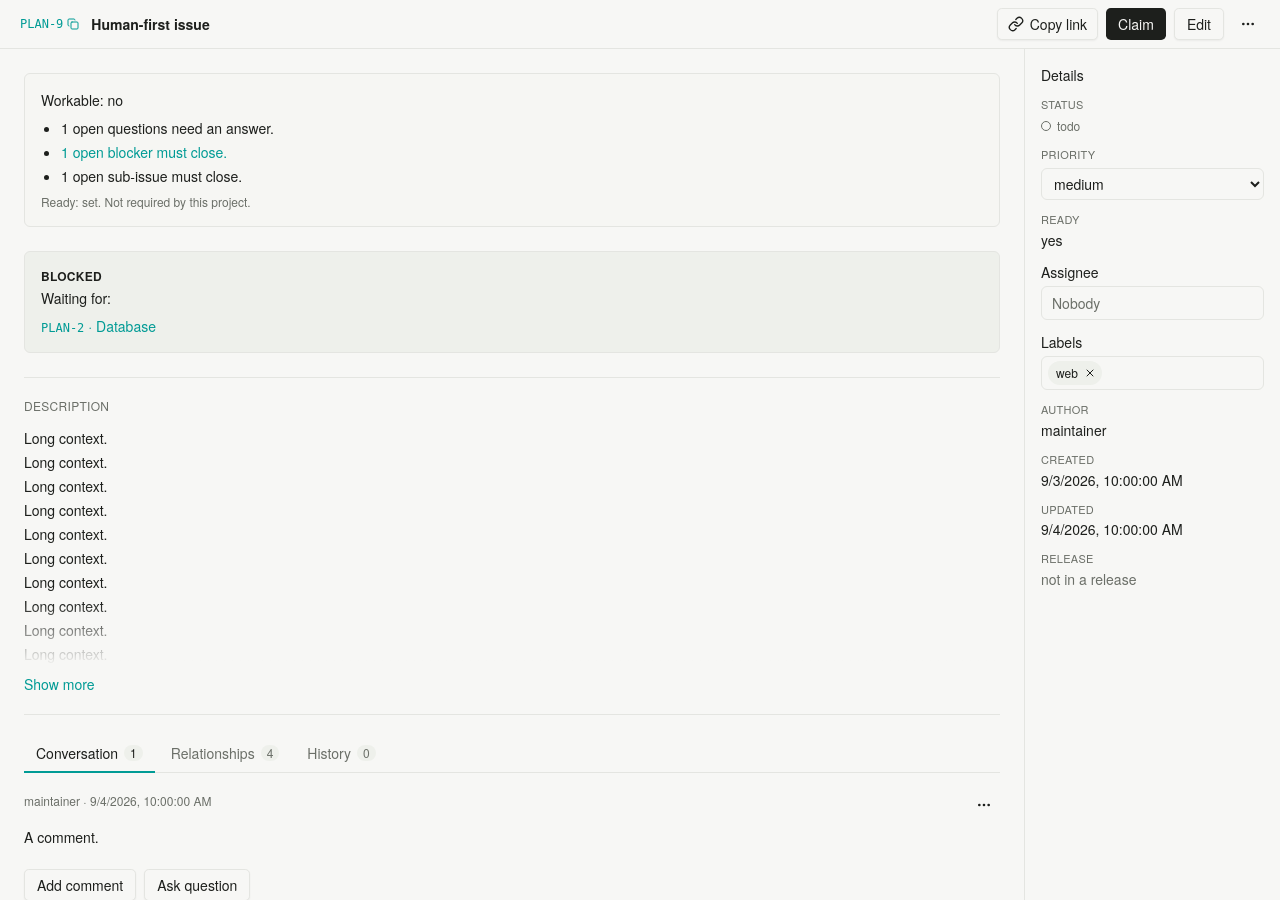
Test case: the human-first issue detail › adopts the current version after an inline edit conflicts
The width and height of the screenshot is (1280, 900).
Select "urgent" in the dropdown named "Priority" at x=1152, y=184, box [1041, 168, 1264, 200]
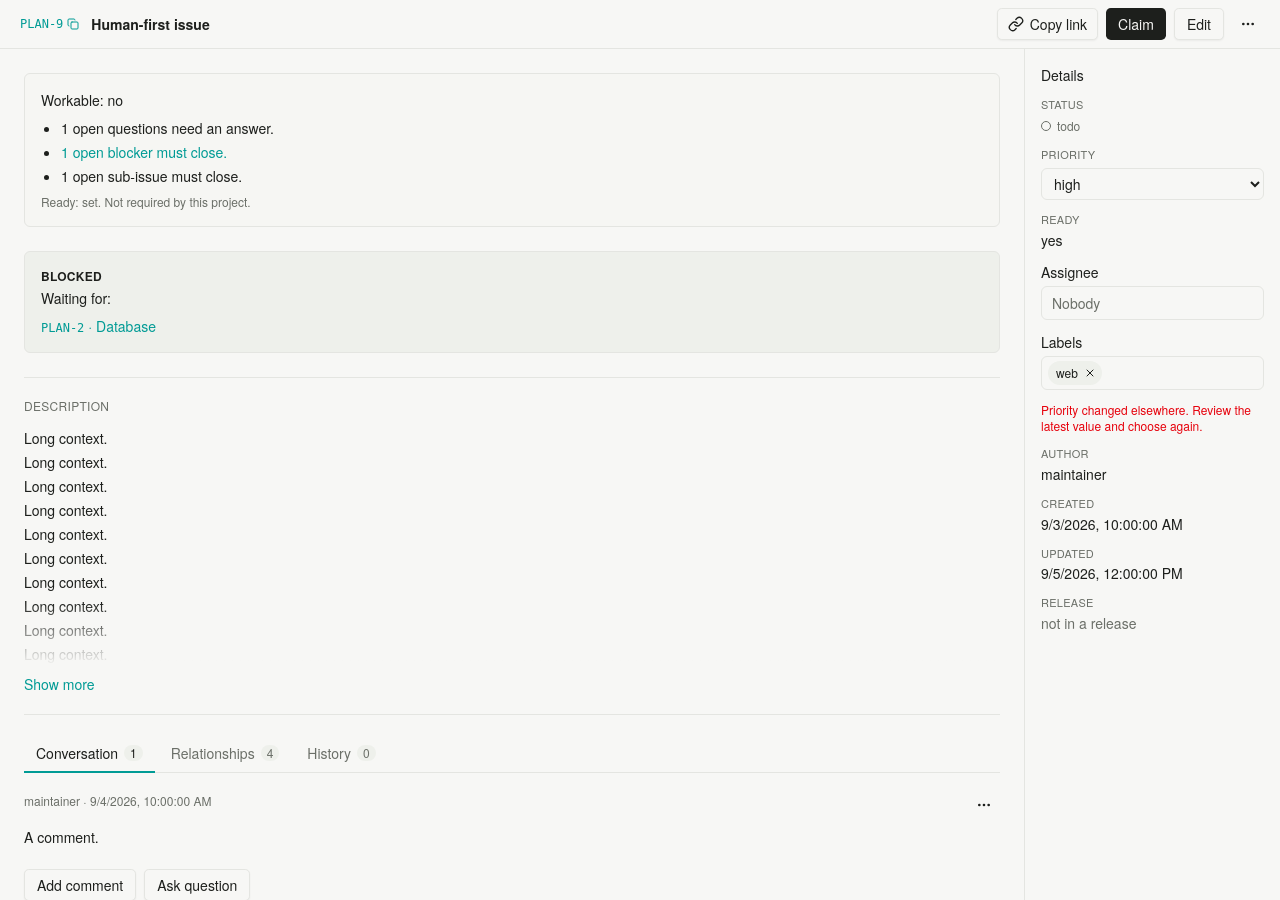
Now the message shows "changed elsewhere", box [1041, 401, 1251, 434]
Select "urgent" in the dropdown named "Priority" at x=1152, y=184, box [1041, 168, 1264, 200]
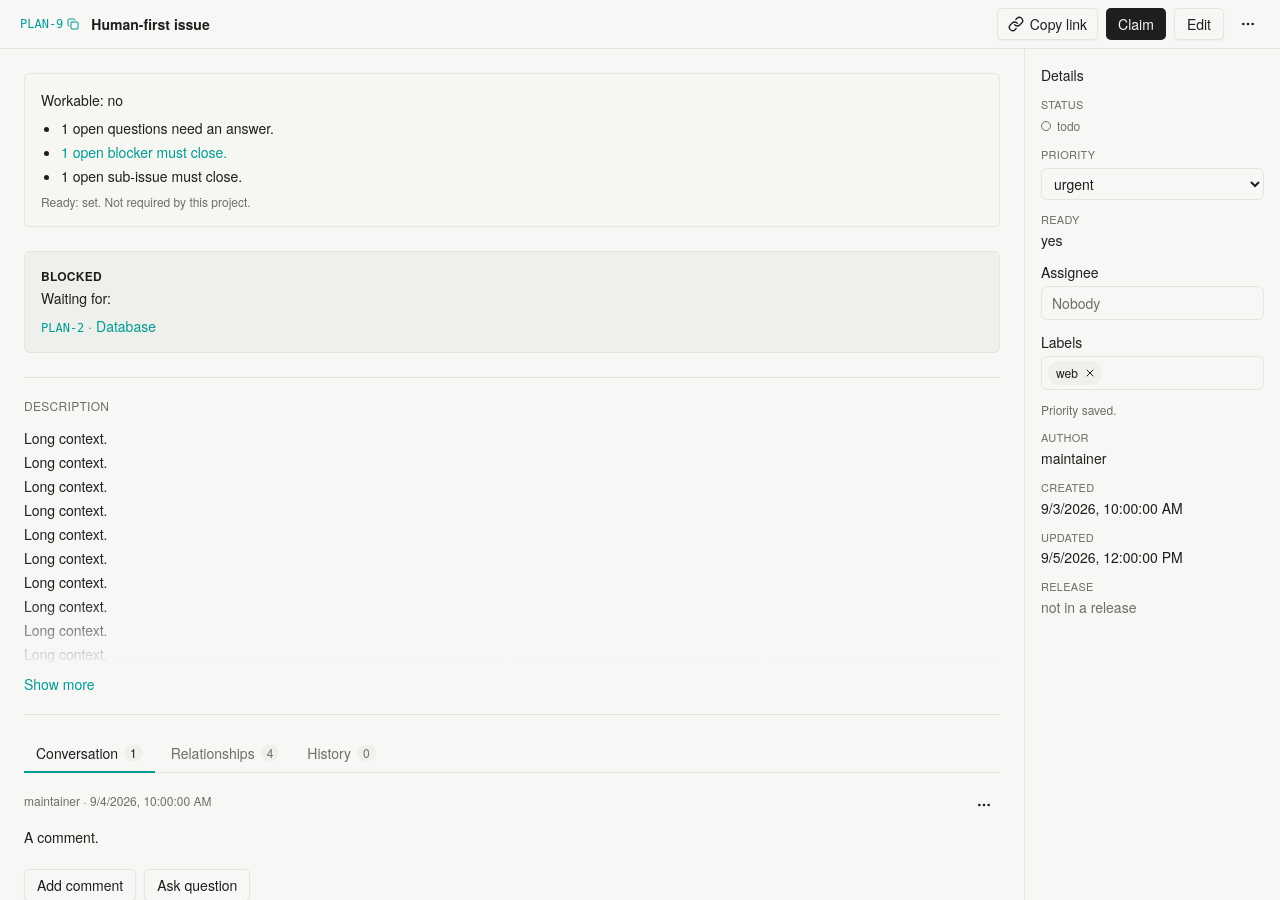
Now the text "Priority saved." is shown, box [1041, 401, 1116, 418]
